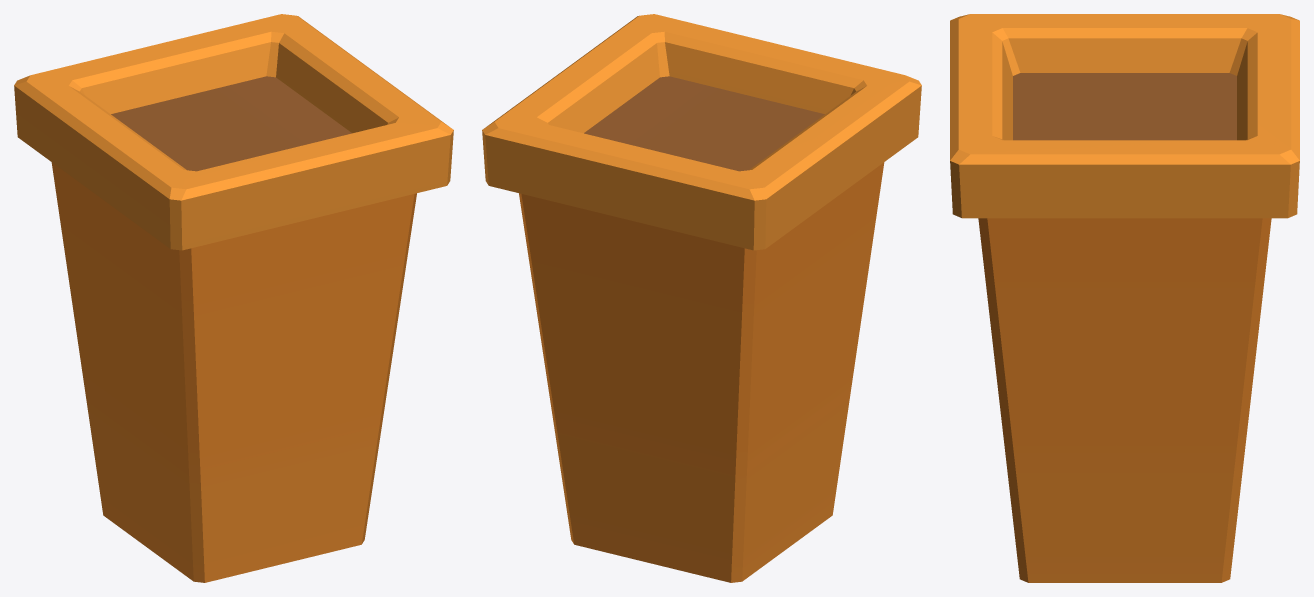
File: PlantPot_2_C.fbx
3 renders of one model, left to right at view 1: azimuth 30°, elevation 25°; view 2: azimuth 150°, elevation 25°; view 3: azimuth 270°, elevation 25°, orthographic. The views are drawn at different scales.
Parts seen in each view (by area): view 1: PlantPot_2_C; view 2: PlantPot_2_C; view 3: PlantPot_2_C.
Part boxes in pixels (x1,y1,x2,y2): PlantPot_2_C: [14, 14, 453, 582]; PlantPot_2_C: [482, 14, 921, 582]; PlantPot_2_C: [950, 14, 1299, 582].
Size of the model in its own units: 36.24 by 51.92 by 36.24.
